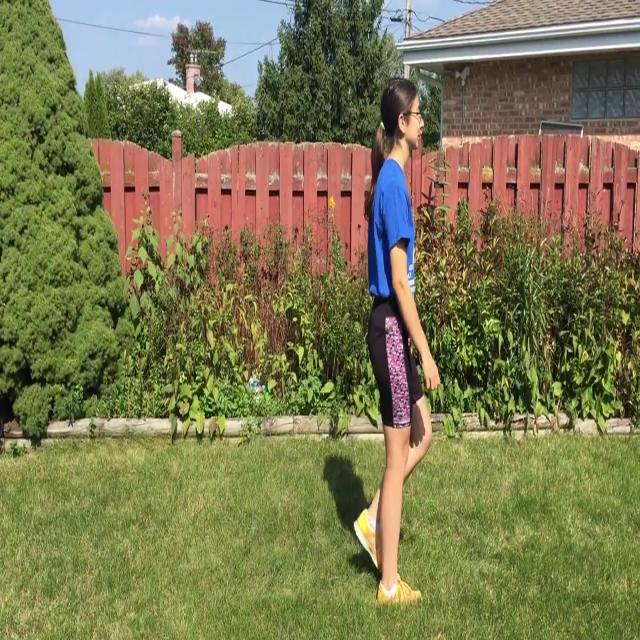normal: (331, 69, 453, 602)
